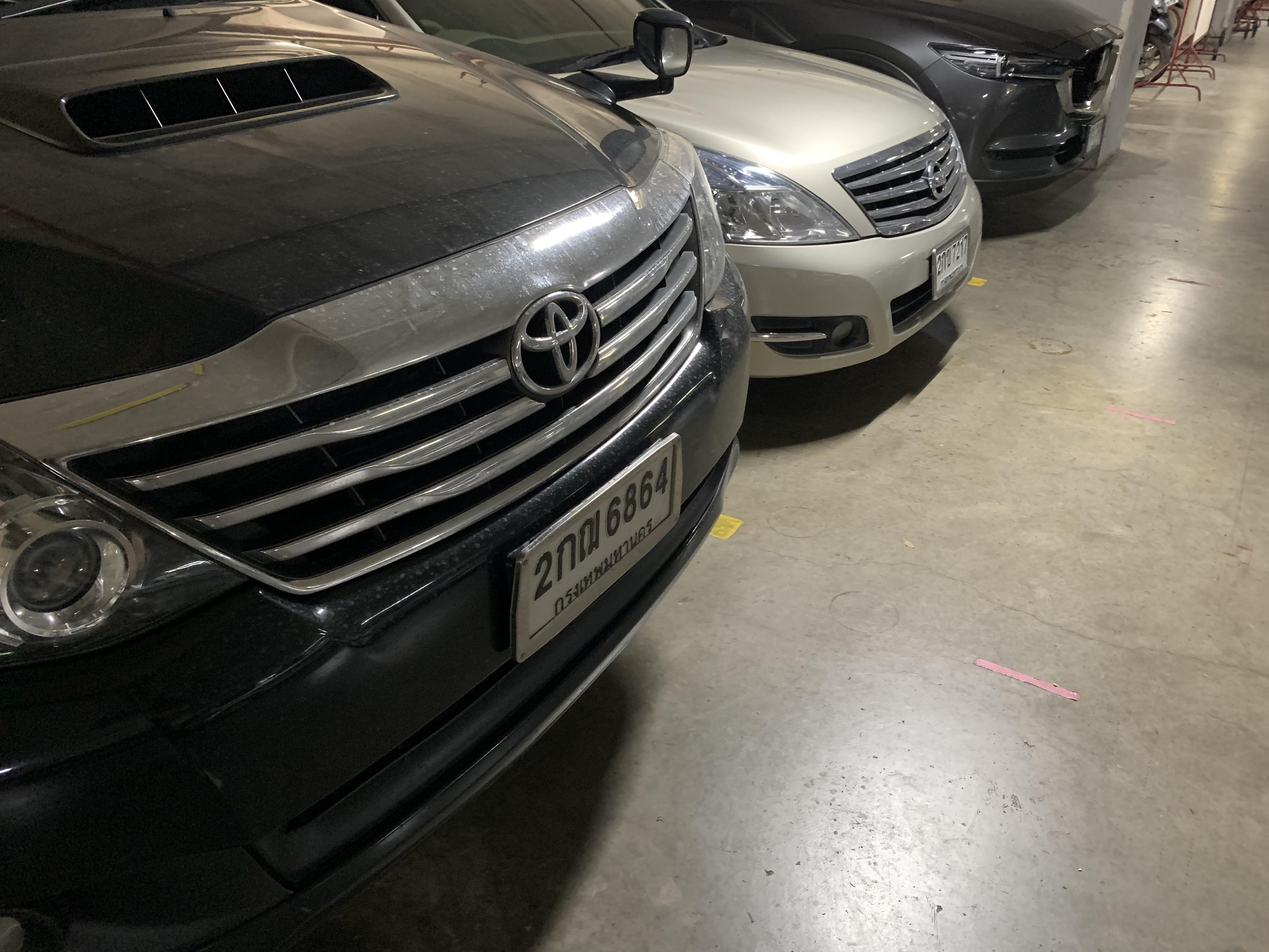license-plate: (505, 427, 690, 670), (922, 224, 978, 305), (1082, 113, 1108, 160)
